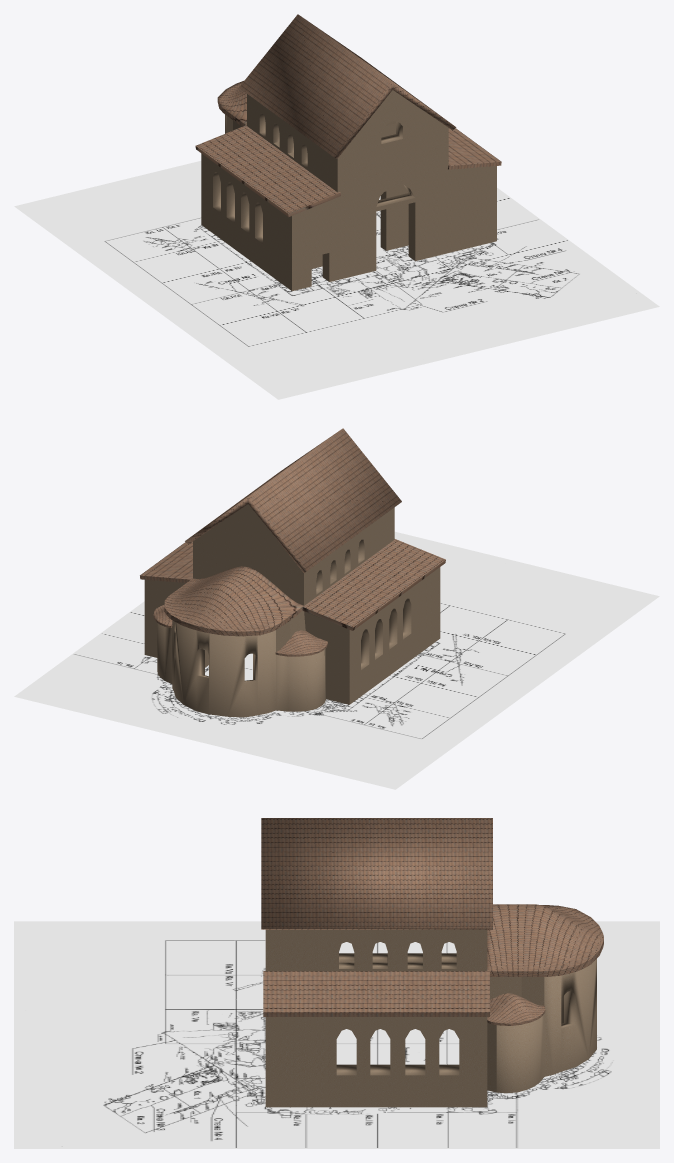
The model's file is Walls.fbx.
The picture shows the model from 3 angles, top to bottom: view 1: azimuth 30°, elevation 25°; view 2: azimuth 150°, elevation 25°; view 3: azimuth 270°, elevation 25°; orthographic projection. The views are drawn at different scales.
Visible parts, largest first — view 1: MainPlan, Walls, Cube; view 2: MainPlan, Walls, Cube; view 3: MainPlan, Cube, Walls.
Part boxes in pixels (x1,y1,x2,y2): MainPlan: [14, 161, 659, 399]; Walls: [201, 90, 496, 291]; Cube: [195, 14, 501, 216]; MainPlan: [14, 531, 659, 789]; Walls: [144, 504, 440, 717]; Cube: [140, 428, 445, 656]; MainPlan: [14, 921, 659, 1148]; Cube: [261, 818, 603, 1025]; Walls: [265, 929, 596, 1107].
Size of the model in its own units: 3203 by 1521 by 3844.
